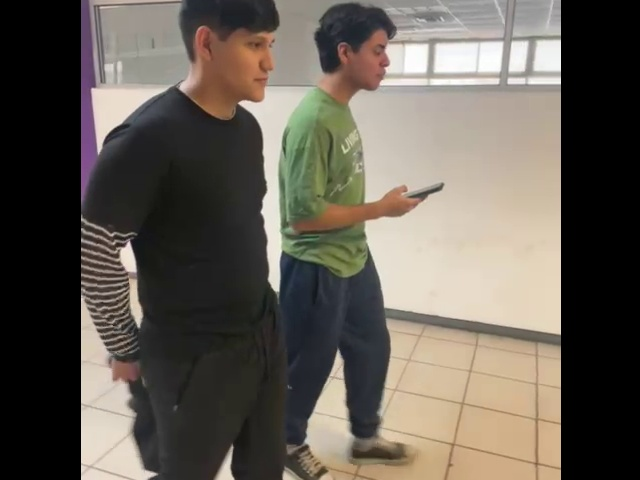mixto2: (400, 174, 448, 203)
